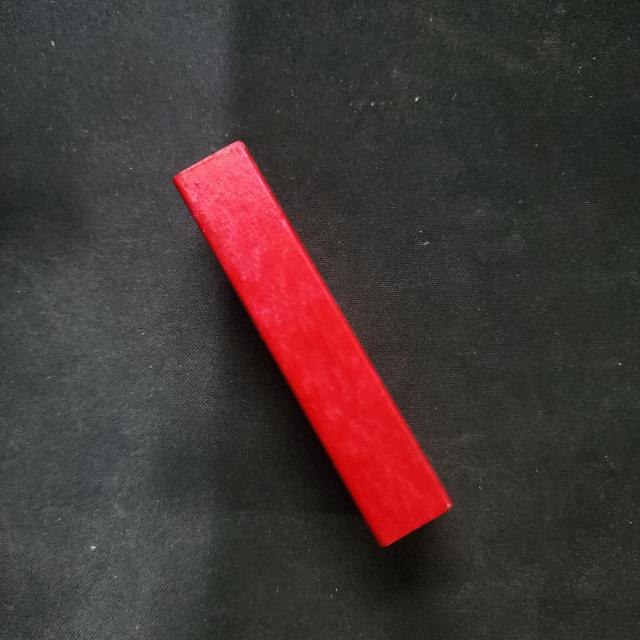red: (173, 138, 454, 547)
